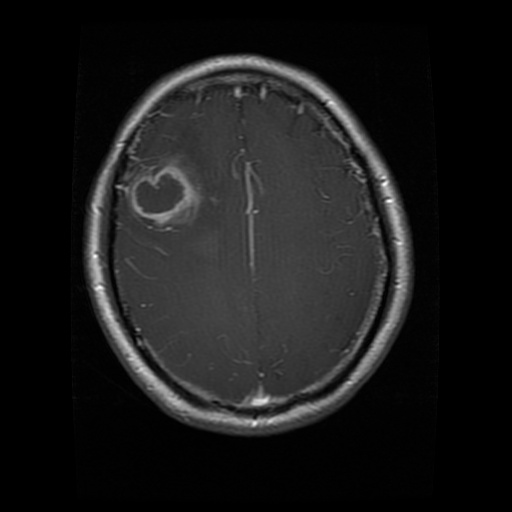glioma: (126, 152, 202, 231)
